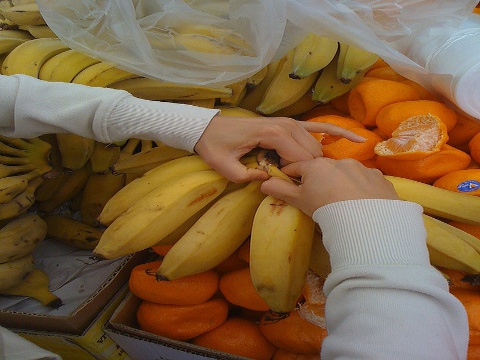hand: (260, 157, 402, 217)
